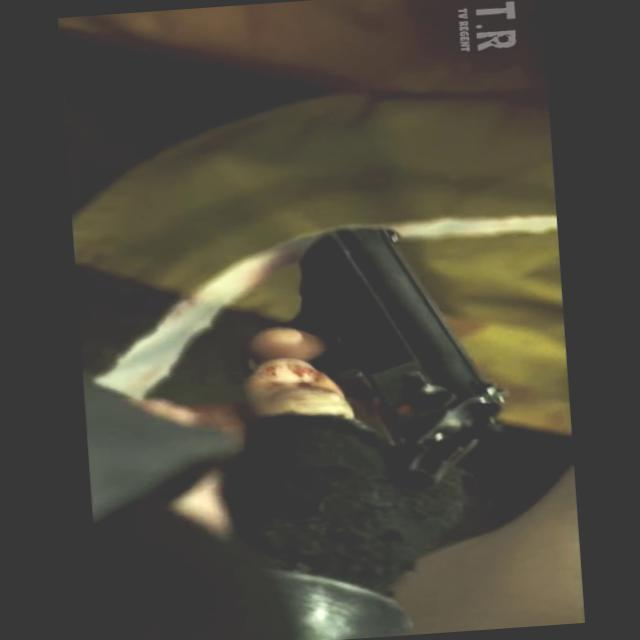handgun: (176, 205, 534, 510)
